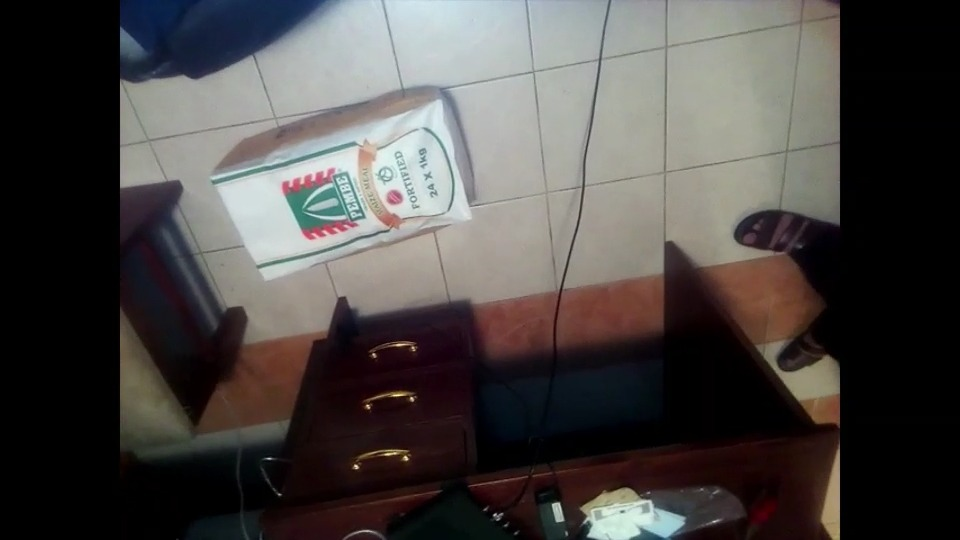maize_flour_green_label: (208, 87, 469, 278)
